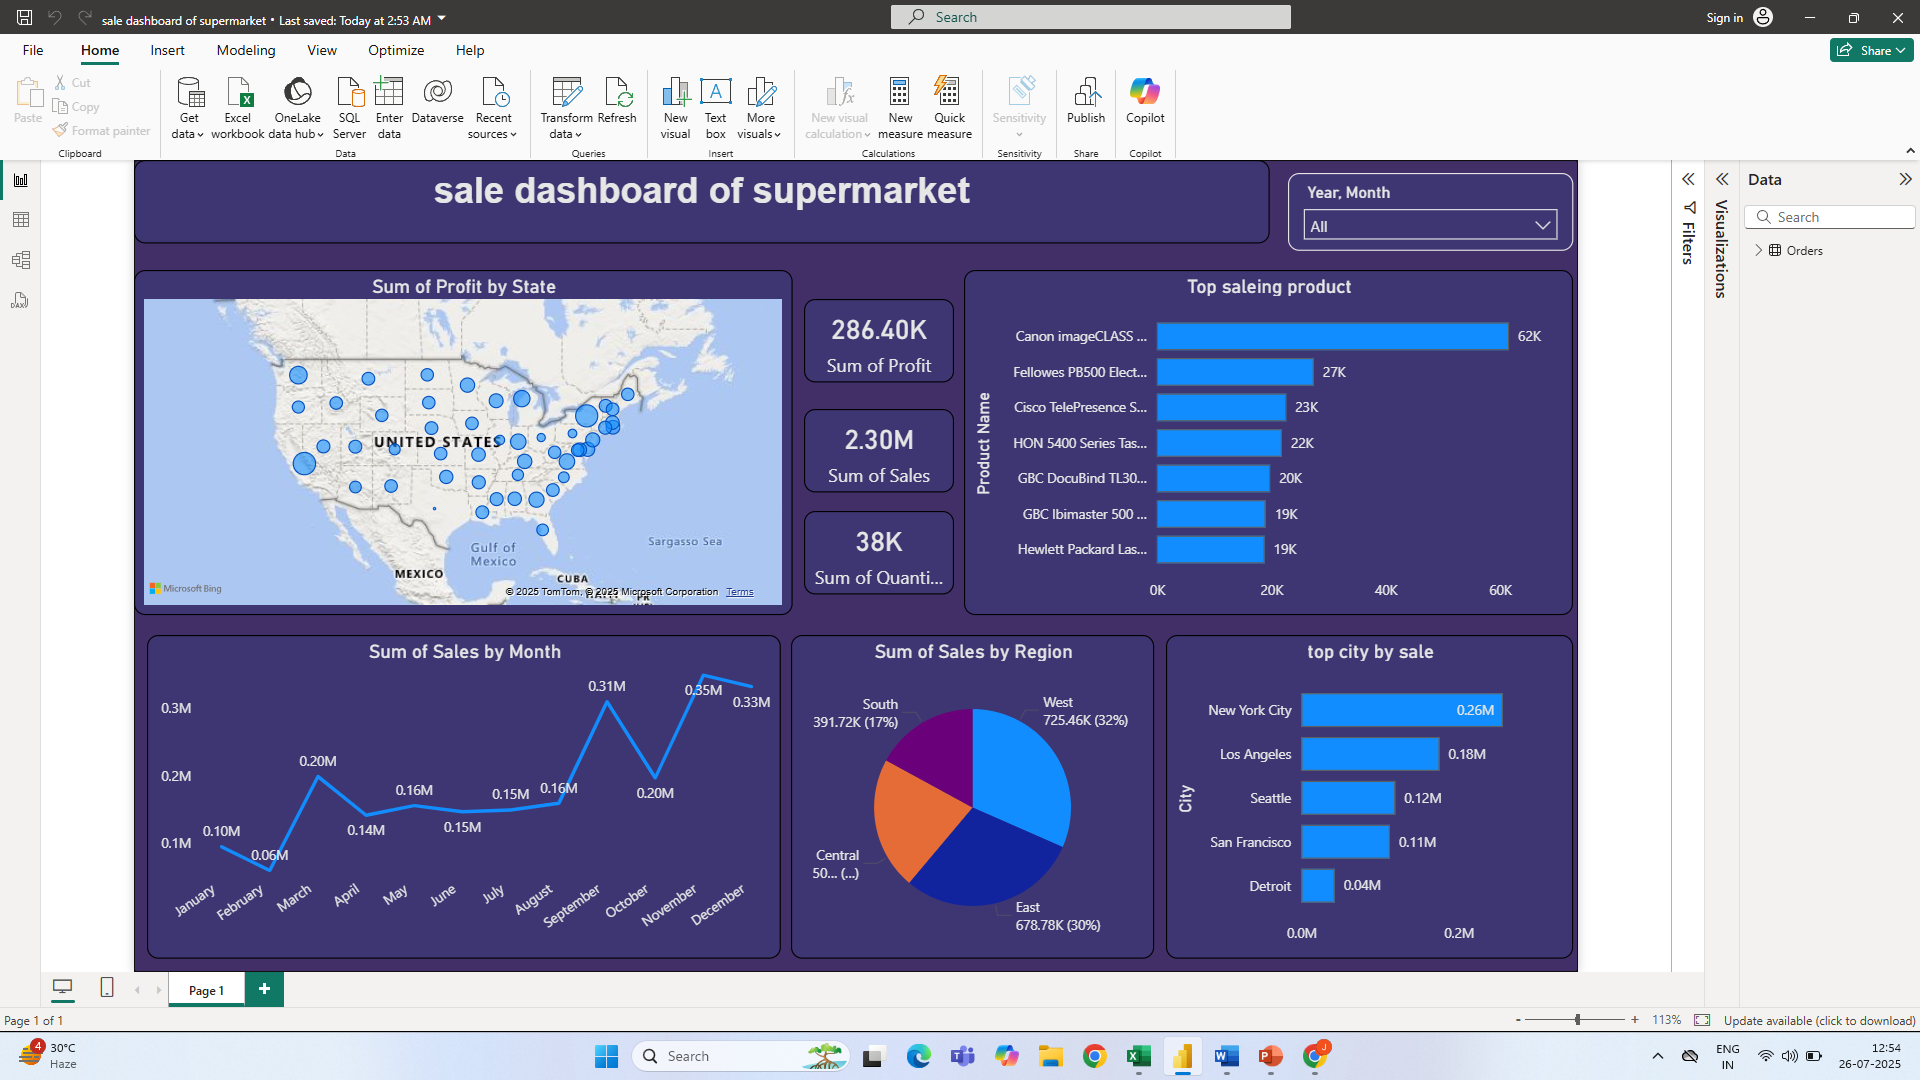

The page's visual inventory and layout, read from the dashboard file:
{"tool":"powerbi","page":{"name":"Page 1","canvas":[1280,720],"ordinal":0},"visuals":[{"type":"textbox","box":[0,0,1006.7,73.9],"z":0},{"type":"slicer","fields":{"Values":["Orders.Order Date.Variation.Date Hierarchy.Year","Orders.Order Date.Variation.Date Hierarchy.Month"]},"box":[1023.2,11.7,252.9,69.1],"z":1000},{"type":"clusteredBarChart","title":"top city by sale","fields":{"Y":["Sum(Orders.Sales)"],"Category":["Orders.City"]},"box":[915.3,421.2,360.9,286.9],"z":2000},{"type":"clusteredBarChart","title":"Top saleing product","fields":{"Category":["Orders.Product Name"],"Y":["Sum(Orders.Sales)"]},"box":[736.3,97.3,539.8,306.4],"z":3000},{"type":"card","fields":{"Values":["Sum(Orders.Profit)"]},"box":[594.3,123.5,133.3,73.9],"z":4000},{"type":"card","fields":{"Values":["Sum(Orders.Quantity)"]},"box":[594.3,311.2,133.3,73.9],"z":5000},{"type":"card","fields":{"Values":["Sum(Orders.Sales)"]},"box":[594.3,220.8,133.3,73.9],"z":6000},{"type":"lineChart","fields":{"Y":["Sum(Orders.Sales)"],"Category":["Orders.Order Date.Variation.Date Hierarchy.Month"]},"box":[11.7,421.2,562.2,286.9],"z":7000},{"type":"pieChart","fields":{"Category":["Orders.Region"],"Y":["Sum(Orders.Sales)"]},"box":[582.6,421.2,321.9,286.9],"z":8000},{"type":"map","fields":{"Category":["Orders.State"],"Size":["Sum(Orders.Profit)"]},"box":[0,97.3,583.6,306.4],"z":9000}]}

Visuals, with their boxes on the page's 1280x720 design canvas (x1, y1, x2, y2). These are canvas units, not pixel positions in the 1920x1080 screenshot, which may show the page scaled, cropped or inside an application window:
textbox: crop(0, 0, 1007, 74)
slicer - Orders.Order Date.Variation.Date Hierarchy.Year x Orders.Order Date.Variation.Date Hierarchy.Month: crop(1023, 12, 1276, 81)
"top city by sale" clusteredBarChart: crop(915, 421, 1276, 708)
"Top saleing product" clusteredBarChart: crop(736, 97, 1276, 404)
card - Sum(Orders.Profit): crop(594, 124, 728, 197)
card - Sum(Orders.Quantity): crop(594, 311, 728, 385)
card - Sum(Orders.Sales): crop(594, 221, 728, 295)
lineChart - Sum(Orders.Sales) x Orders.Order Date.Variation.Date Hierarchy.Month: crop(12, 421, 574, 708)
pieChart - Orders.Region x Sum(Orders.Sales): crop(583, 421, 904, 708)
map - Orders.State x Sum(Orders.Profit): crop(0, 97, 584, 404)
